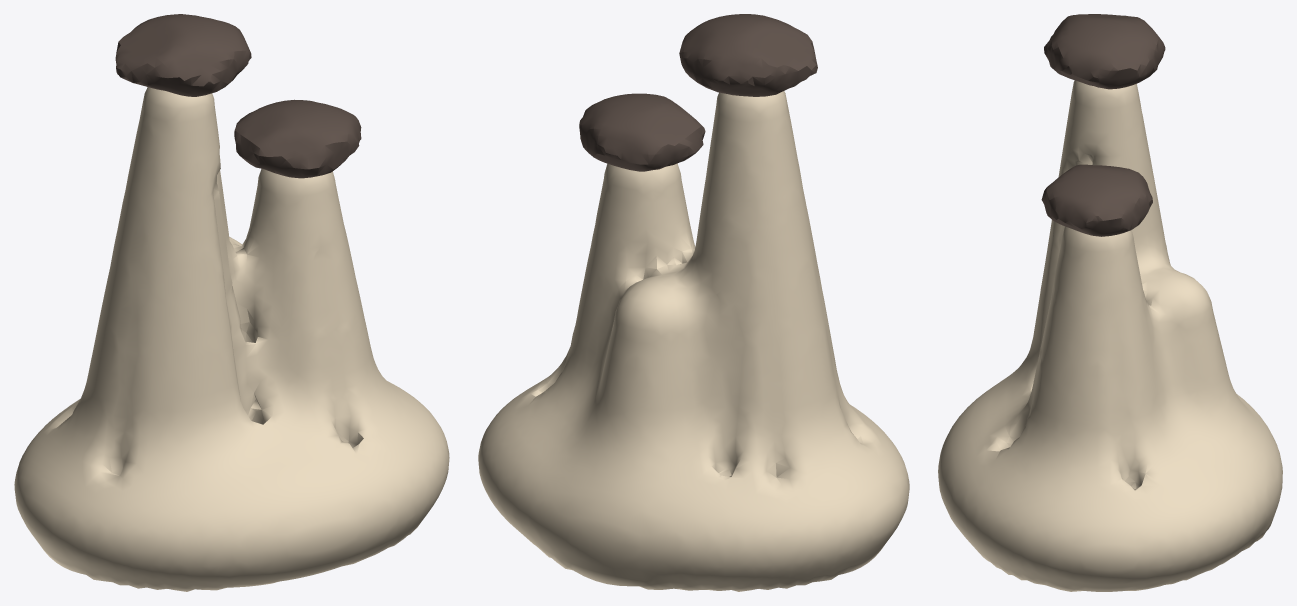
File: chimney-twin.glb
3 views of the same model, side by side, from view 1: azimuth 30°, elevation 25°; view 2: azimuth 150°, elevation 25°; view 3: azimuth 270°, elevation 25° (orthographic). The views are drawn at different scales.
Parts seen in each view (by area): view 1: body, cap0, cap1; view 2: body, cap0, cap1; view 3: body, cap0, cap1.
Part boxes in pixels (x1,y1,x2,y2): body: (14,87,449,591); cap0: (115,14,251,96); cap1: (234,99,361,178); body: (478,91,909,591); cap0: (679,14,817,96); cap1: (579,93,705,171); body: (938,80,1282,591); cap0: (1044,14,1165,89); cap1: (1041,164,1152,236).
Bounding box in the file's own units: 8.8 × 10.91 × 7.22.
